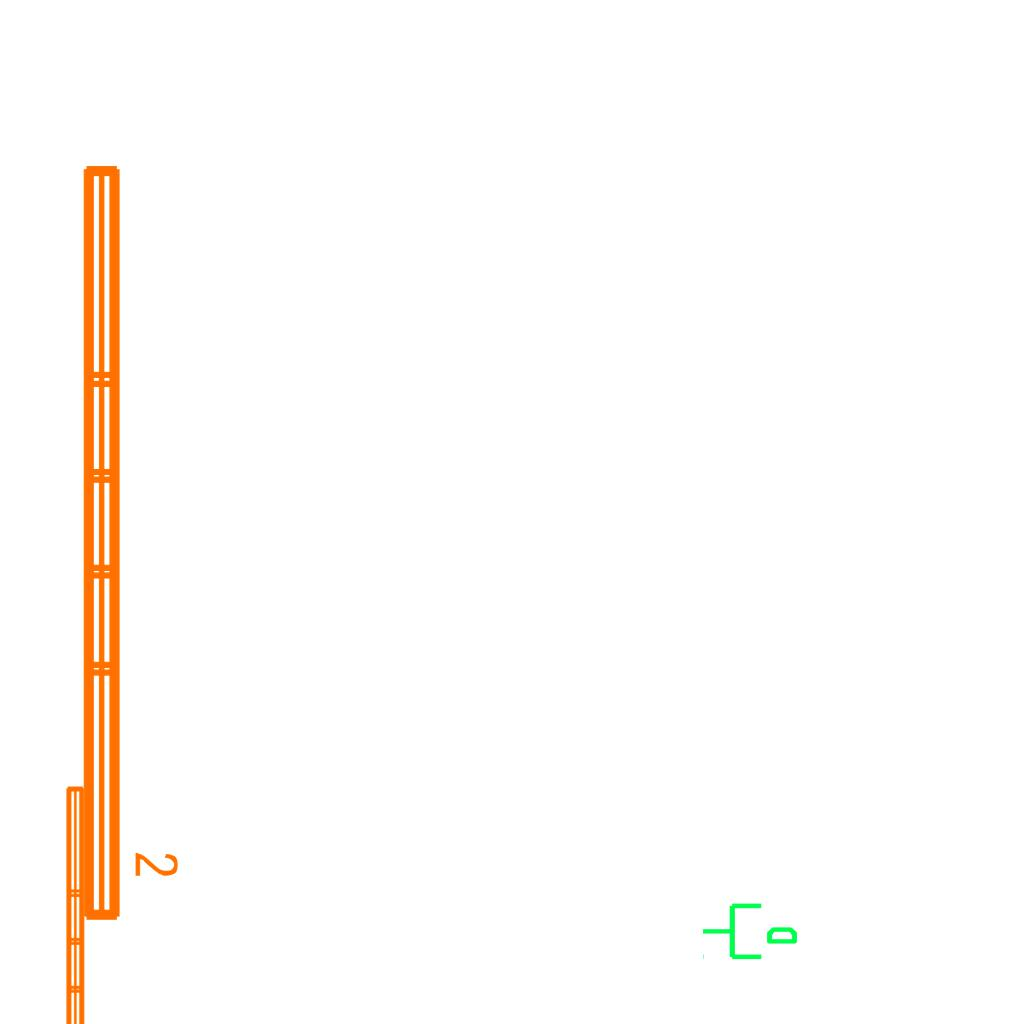Ambulanz_Pendelleuchte_LED: (71, 155, 183, 929), (60, 781, 116, 1024)
Datenanschluss_einfach: (700, 895, 800, 964)
